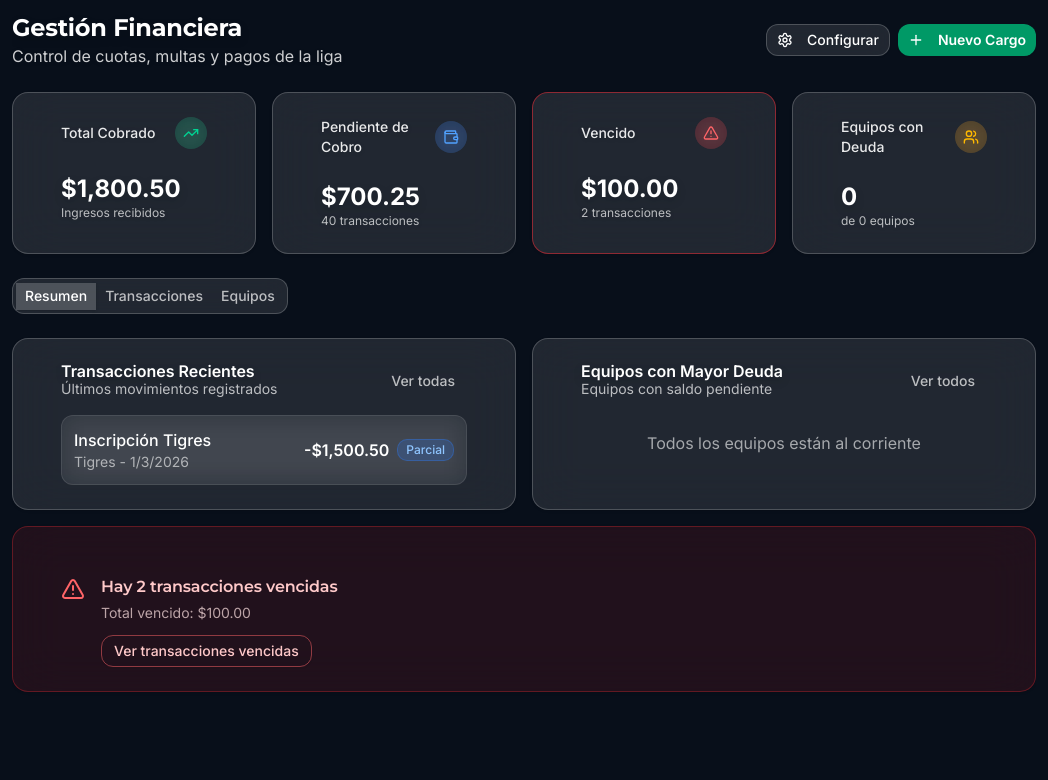
Finance: transaction filters › sends the search as the q param (debounced) and goes back to the first page
The width and height of the screenshot is (1048, 780).
Click the tab "Transacciones" at {"x": 154, "y": 296}, box left=96, top=282, right=212, bottom=310
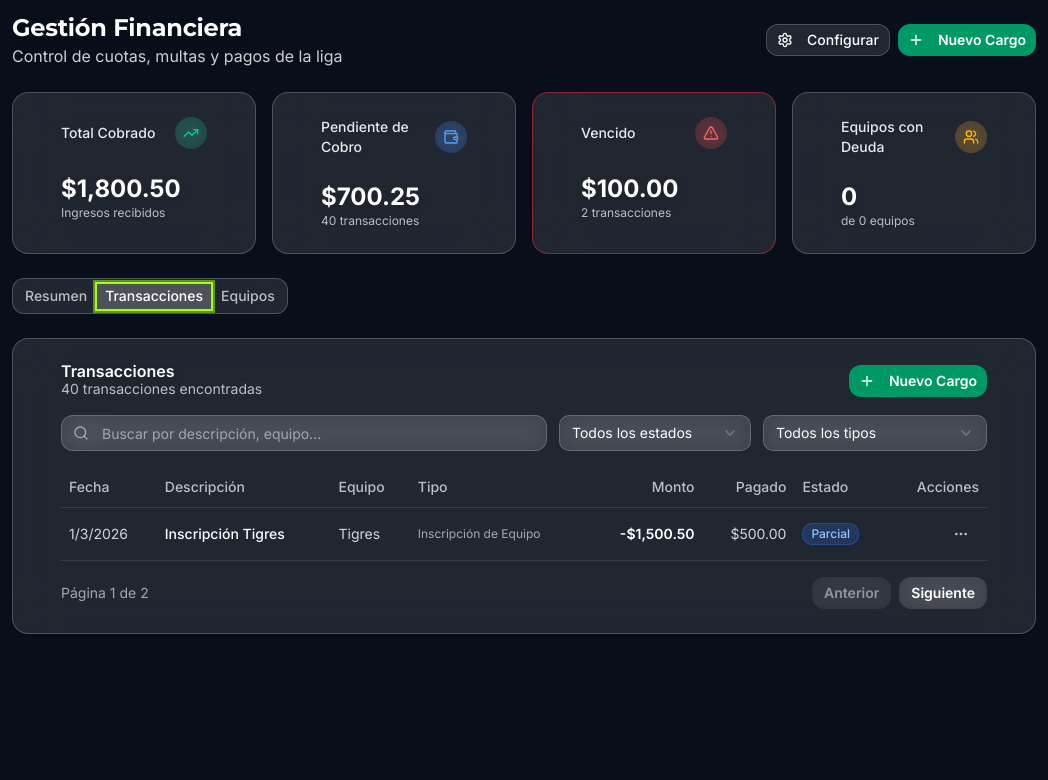
Click the button "Siguiente" at {"x": 943, "y": 592}, box left=899, top=576, right=987, bottom=608
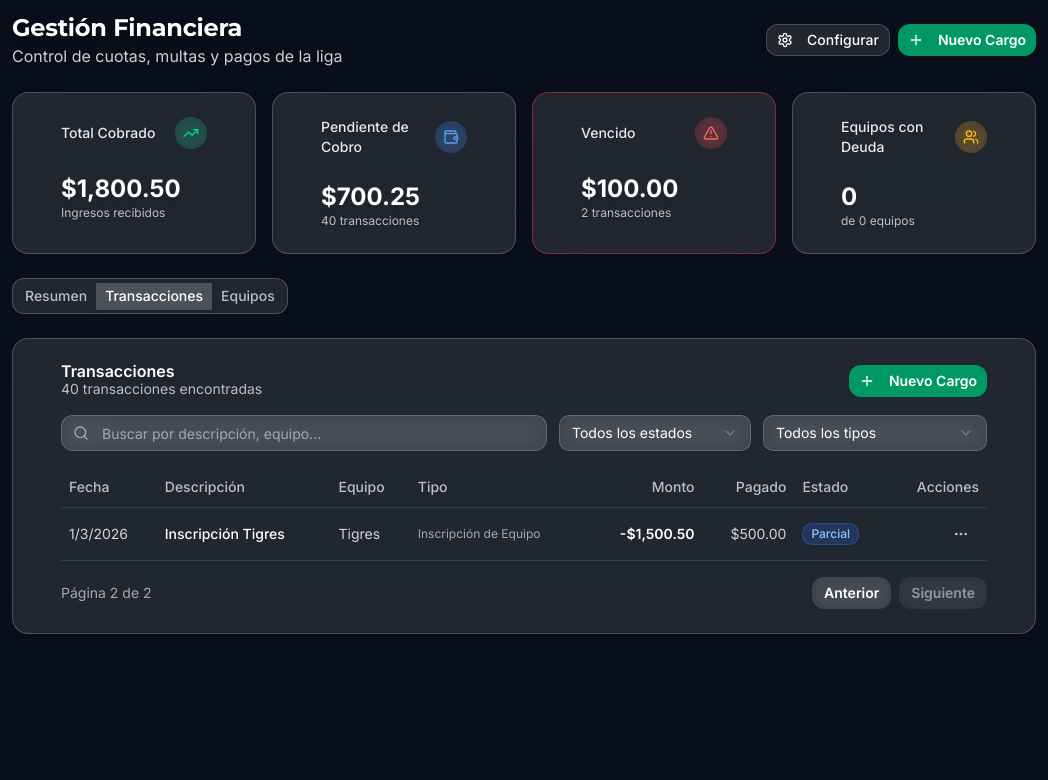
Check: the text "Página 2 de 2" is shown, box left=61, top=582, right=152, bottom=602
Type "tigres" into the field named "Buscar transacciones" at {"x": 304, "y": 433}, box left=61, top=415, right=547, bottom=451
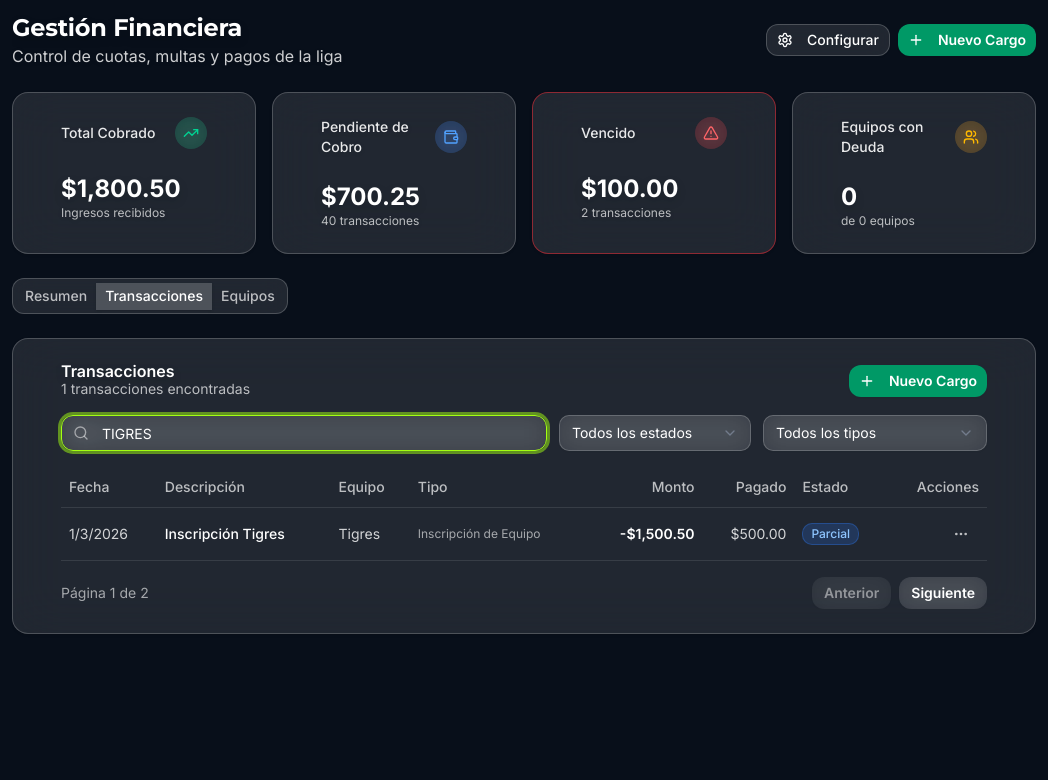
Check: the text "Página 1 de 2" is shown, box left=61, top=582, right=149, bottom=602
